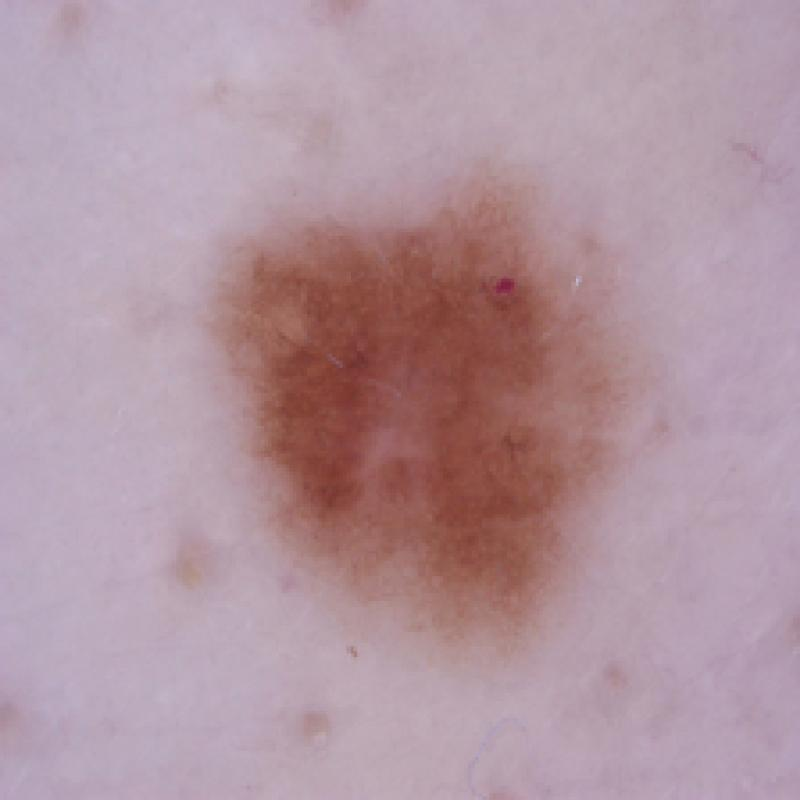benign: (184, 153, 648, 656)
